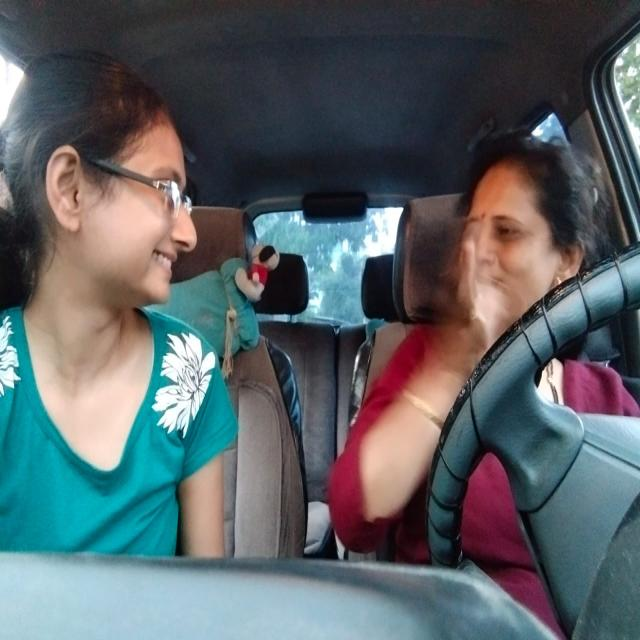LeftRight: (453, 130, 593, 352)
person: (5, 47, 204, 339)
